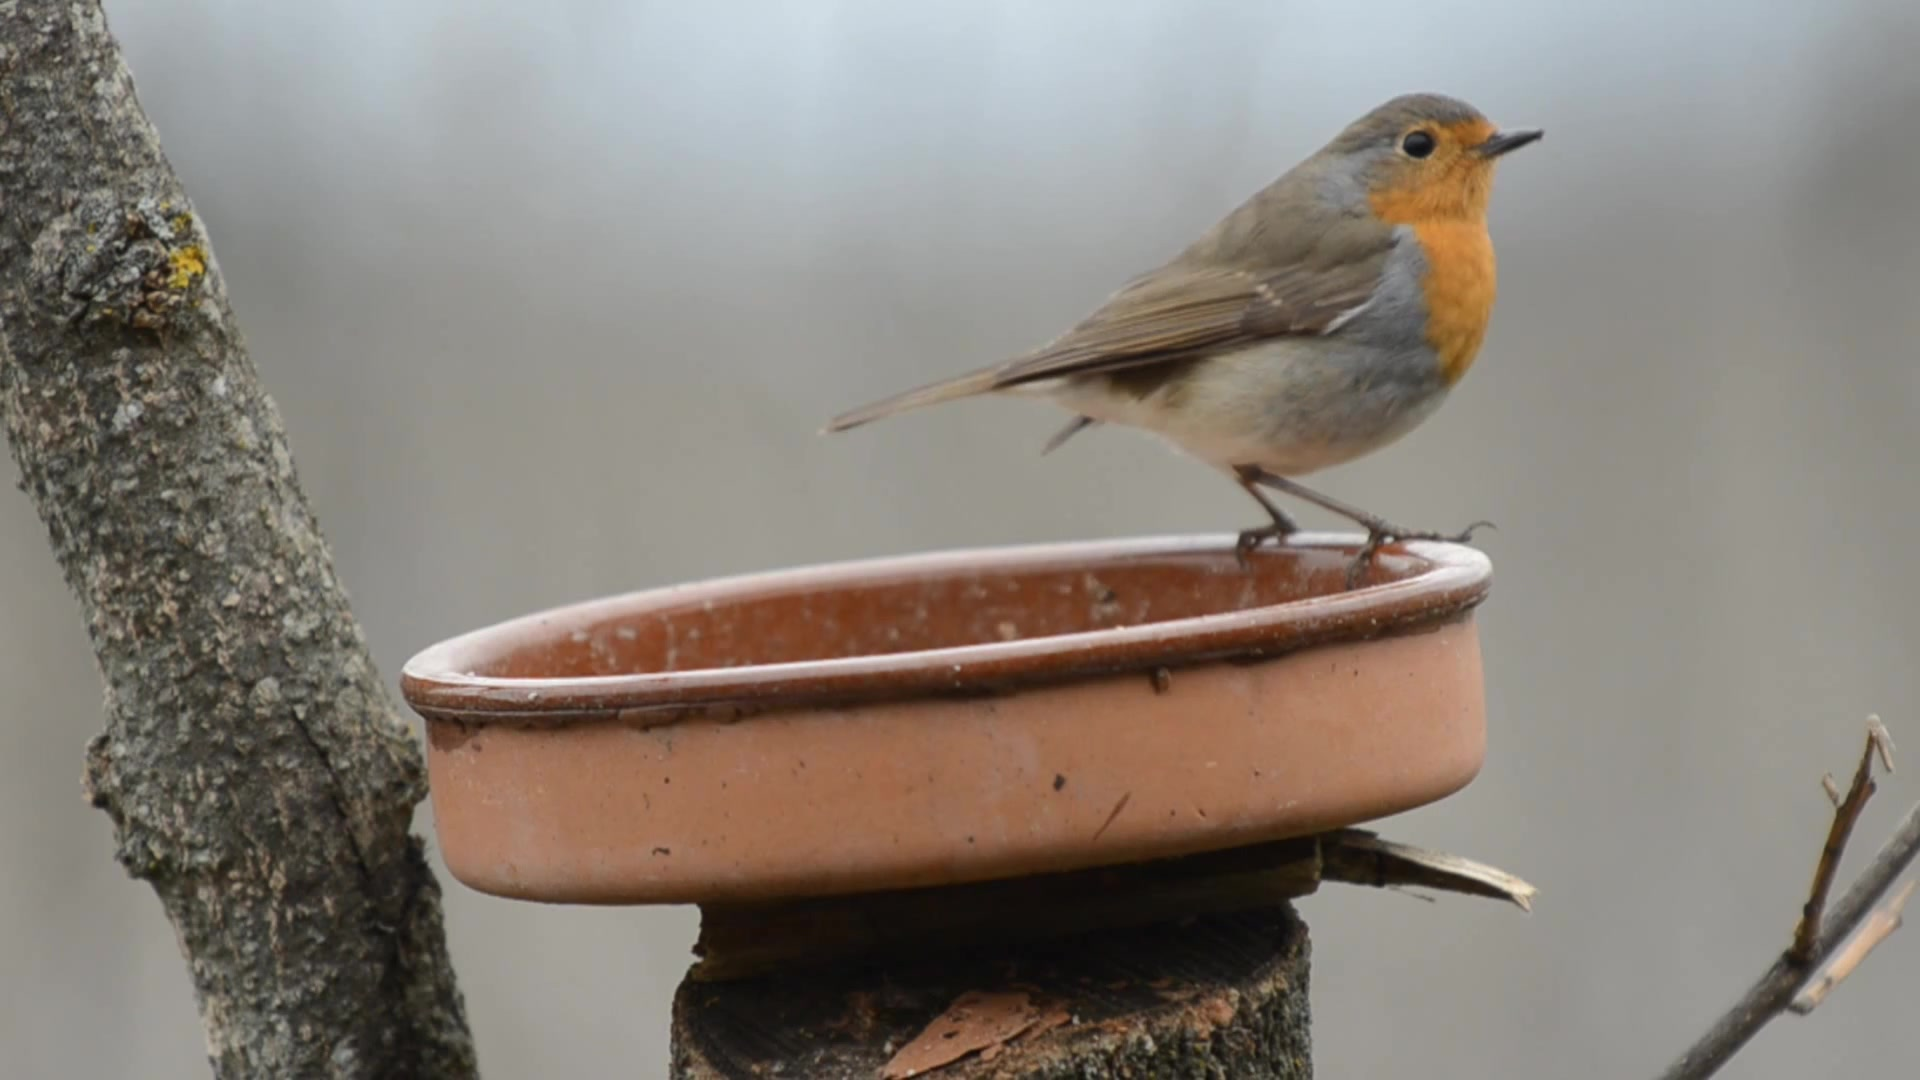bird: (823, 94, 1547, 589)
